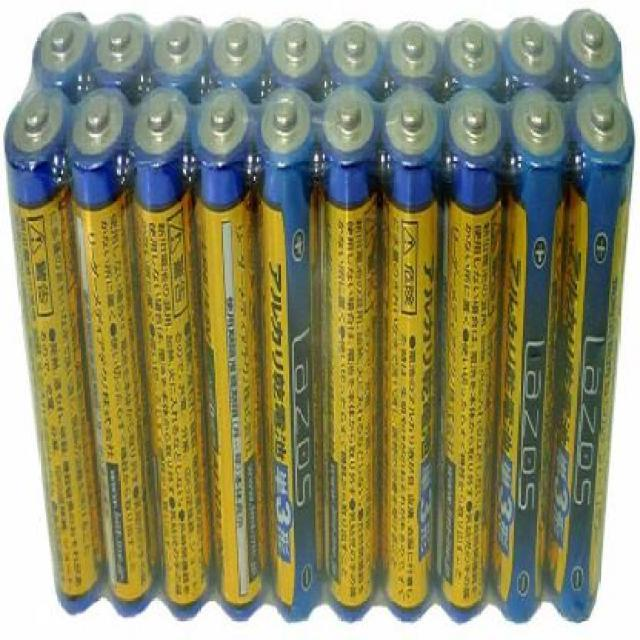hazardous waste: (3, 89, 109, 625), (69, 91, 162, 624), (549, 86, 634, 625), (131, 92, 214, 628), (429, 92, 511, 630), (491, 96, 571, 638), (194, 86, 271, 622), (376, 88, 446, 622), (258, 91, 324, 634), (322, 79, 384, 626)
